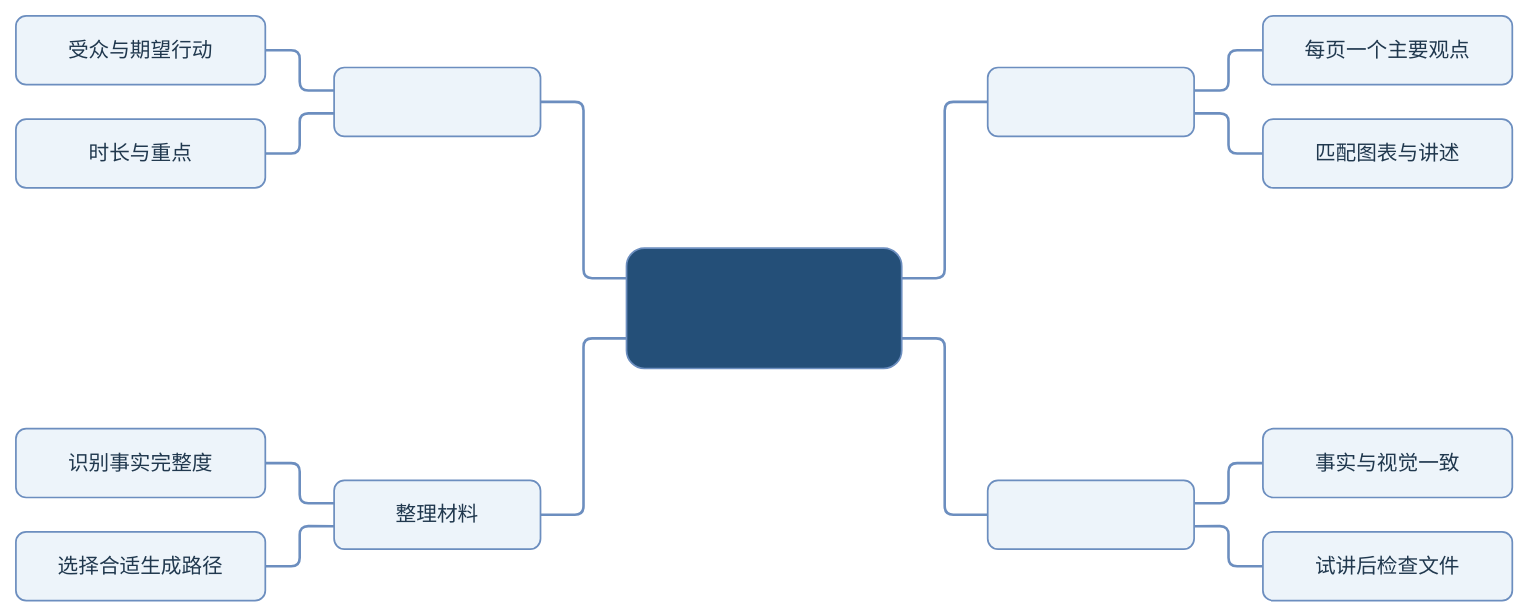
The diagram is 1527 pixels wide and 616 high, and some of its shapes have lost their labels. Each missing label, with the centre of its shape:
"检验表达" goes at [1090,514].
"确定汇报" goes at [437,101].
"第5章 PPT制作" goes at [763,308].
"设计页面" goes at [1090,101].
